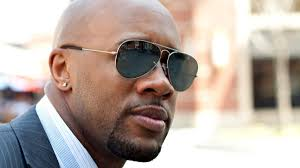b.y: (116, 115, 162, 163)
